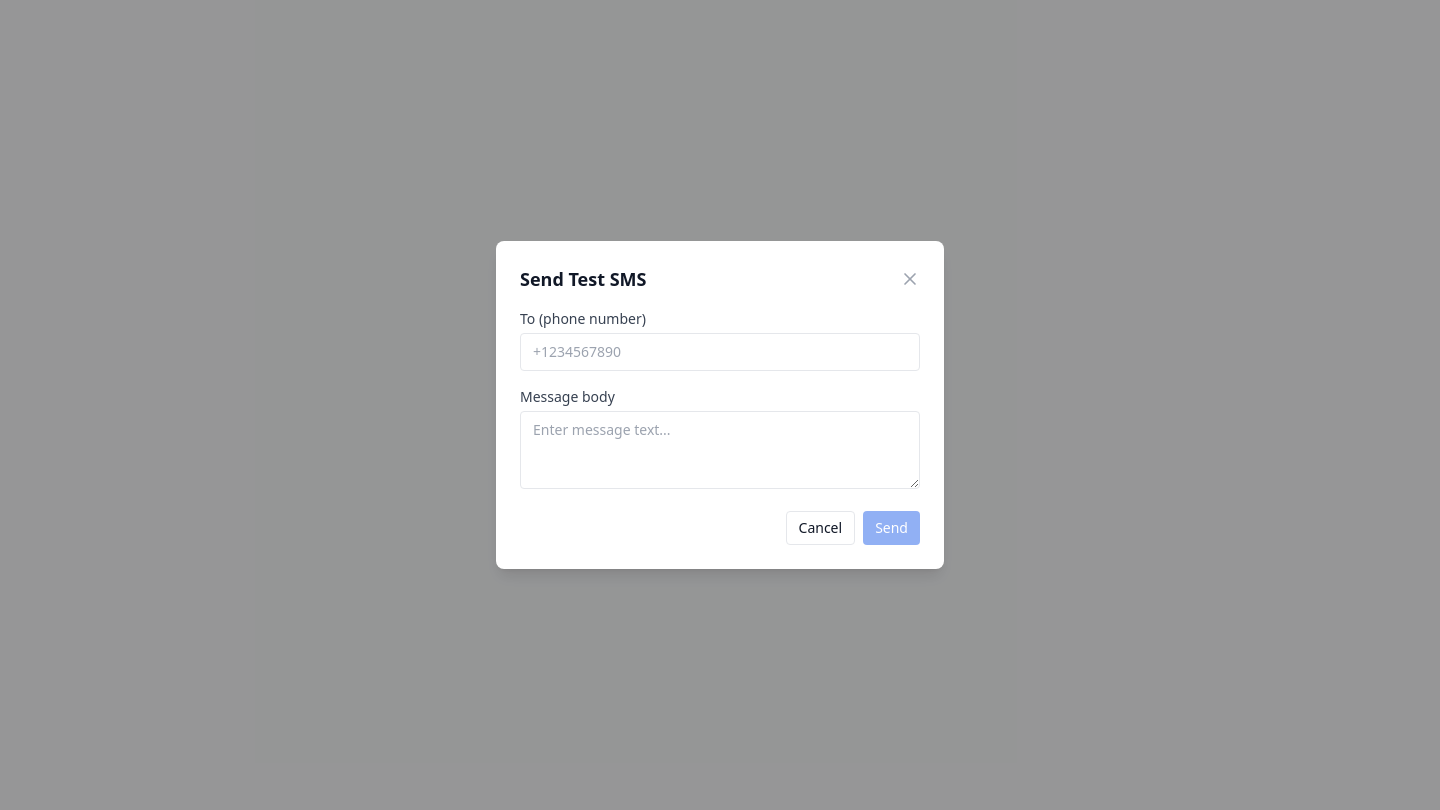
Test: SMSSendTester › shows success result with status and to after send
Type "+15559999999" into the field labelled "To (phone number)" at (720, 352), box [520,333,920,371]
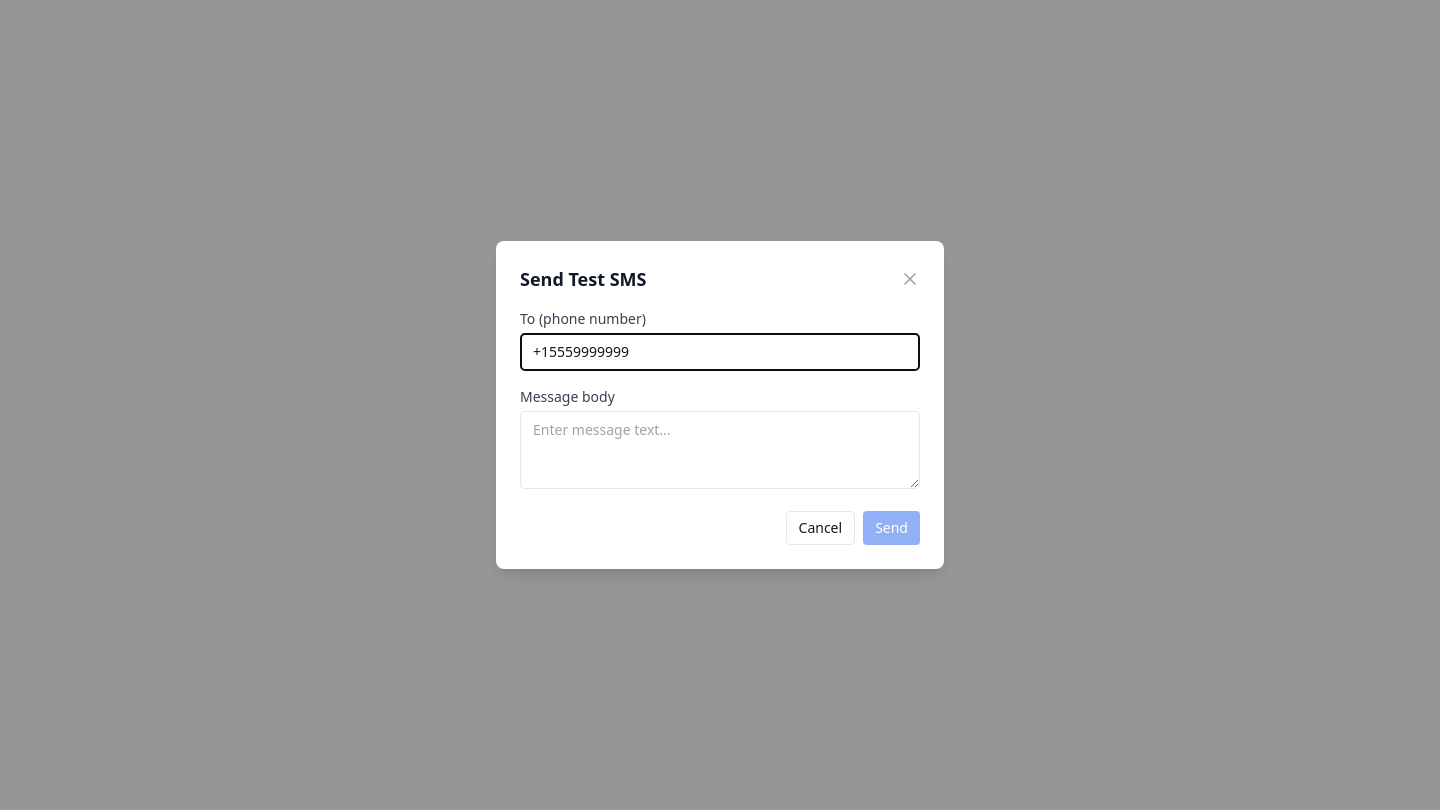
Type "Test msg" into the text box labelled "Message body" at (720, 450), box [520,411,920,489]
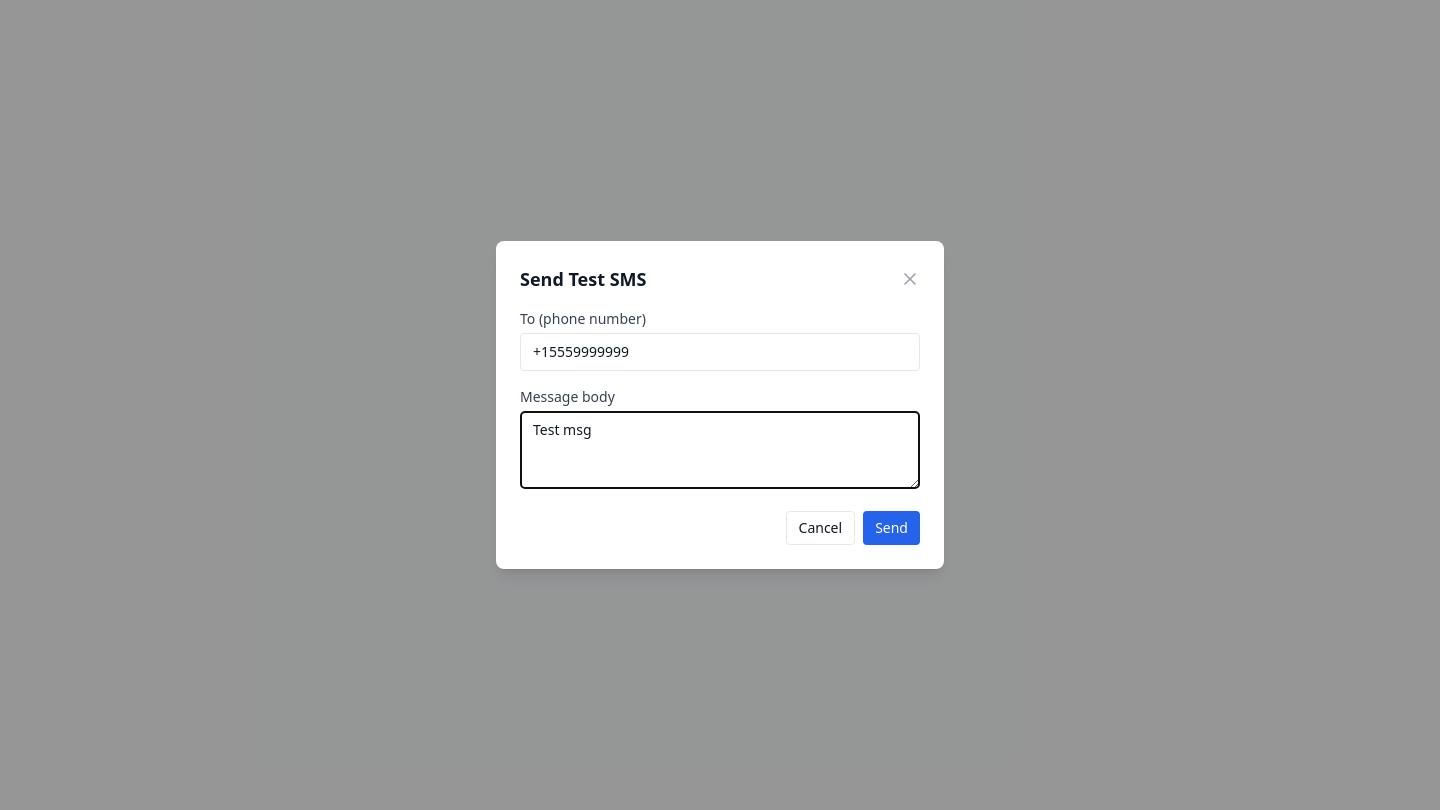
Click the button "Send" at (892, 528), box [863,511,920,545]
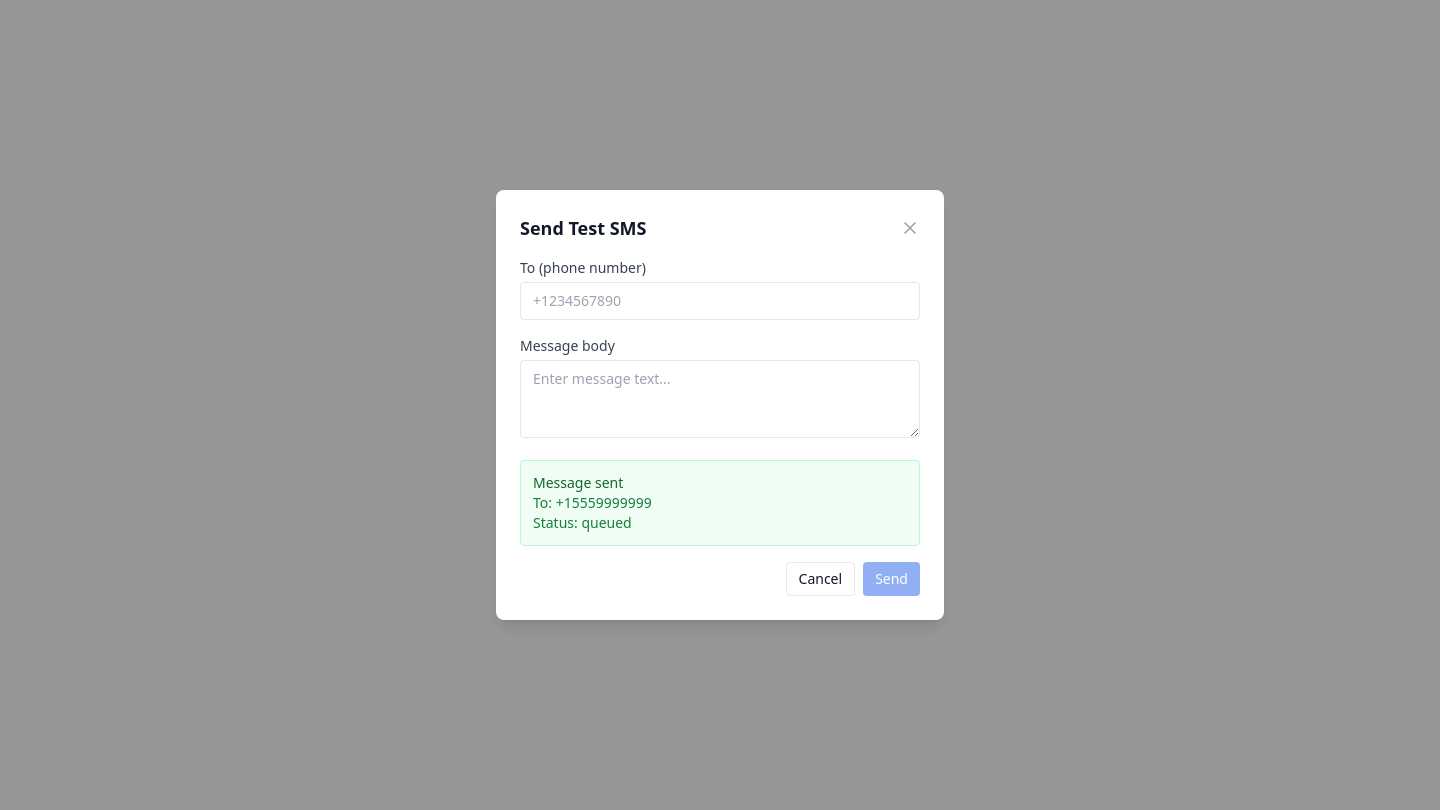
Expected: the element with test id "send-result" is shown, [520,460,920,546]
Expected: the element with test id "send-result" shows "queued", [581,513,632,532]
Expected: the element with test id "send-result" shows "+15559999999", [556,493,652,512]
